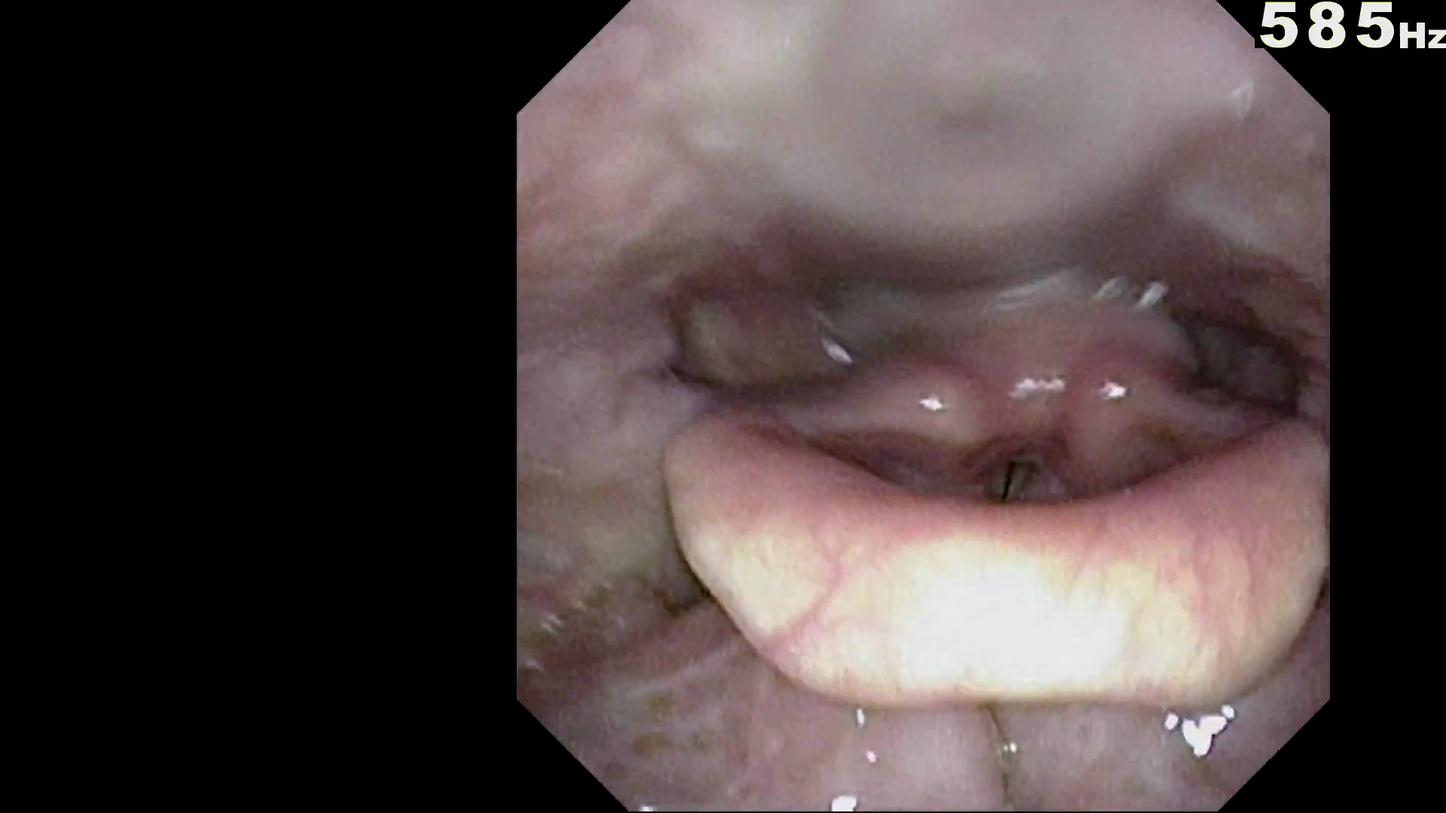epiglottis: (666, 355, 1328, 648)
trachea: (928, 325, 1070, 493)
